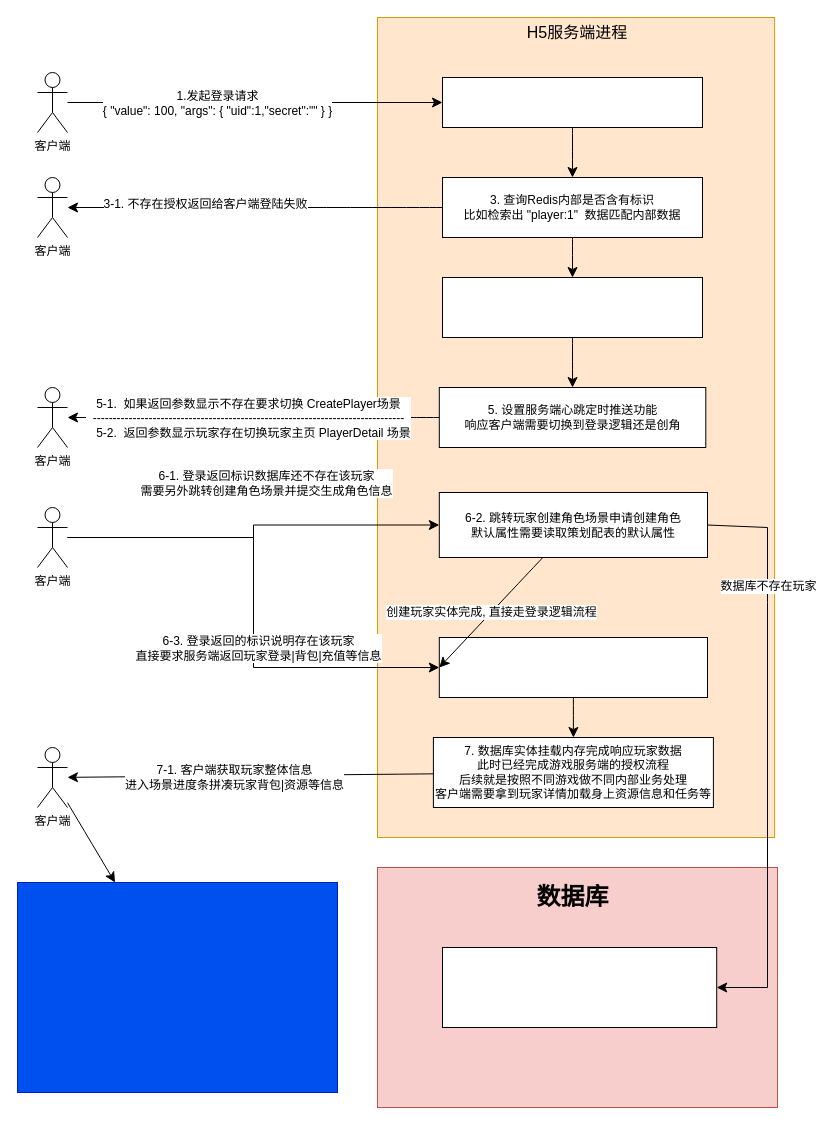
This 833x1125 diagram has some shape labels left out. The box of each missing label's shape, as (x1, y1, x2, y2) in pixels:
2. AuthorizedActor验证 验证第三方SDK的 Uid 和 Secret 授权: (442, 76, 702, 128)
4. 确认完成判断玩家是否在数据库存在 需要确定新建或者登录事件: (442, 276, 702, 338)
6-4. 请求数据库内部数据挂载到进程内存 针对玩家修改都是处理进程内存数据 异步将变动过玩家内存数据落地到数据库: (438, 636, 708, 698)
客户端进入资源加载进度 - 90%: (16, 882, 338, 1092)
玩家在数据库没有数据实体 需要在数据库创建玩家数据: (442, 946, 717, 1028)
